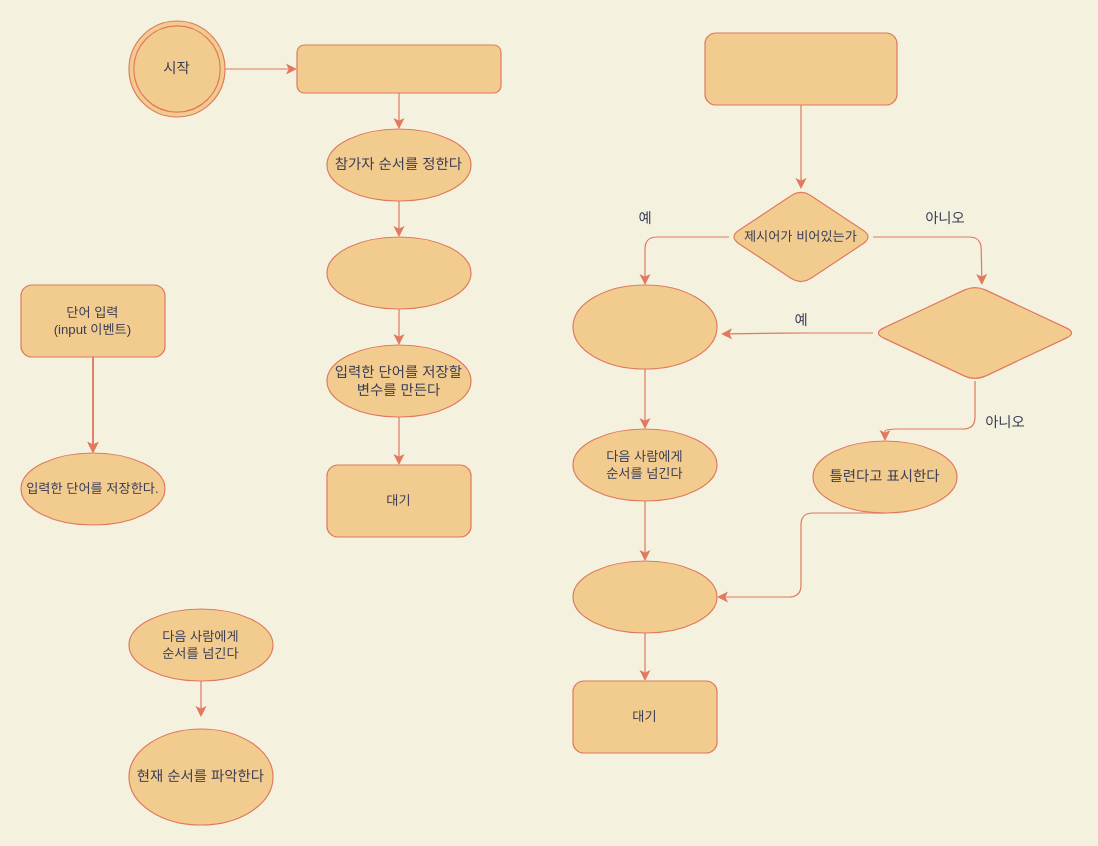
This 1098x846 diagram has some shape labels left out. Here are the shapes that lost their labels. From the top down, the centre of each, then its label:
At point (398, 68): "몇명이 참여할지 선택한다".
At point (800, 68): "입력 버튼 클릭".
At point (398, 272): "제시어를 저장할 변수를 만든다".
At point (644, 326): "입력한 단어가 제시어가 된다.".
At point (974, 332): "입력한 단어가 올바른가?".
At point (644, 596): "입력창을 비우고 커서를 둔다".
